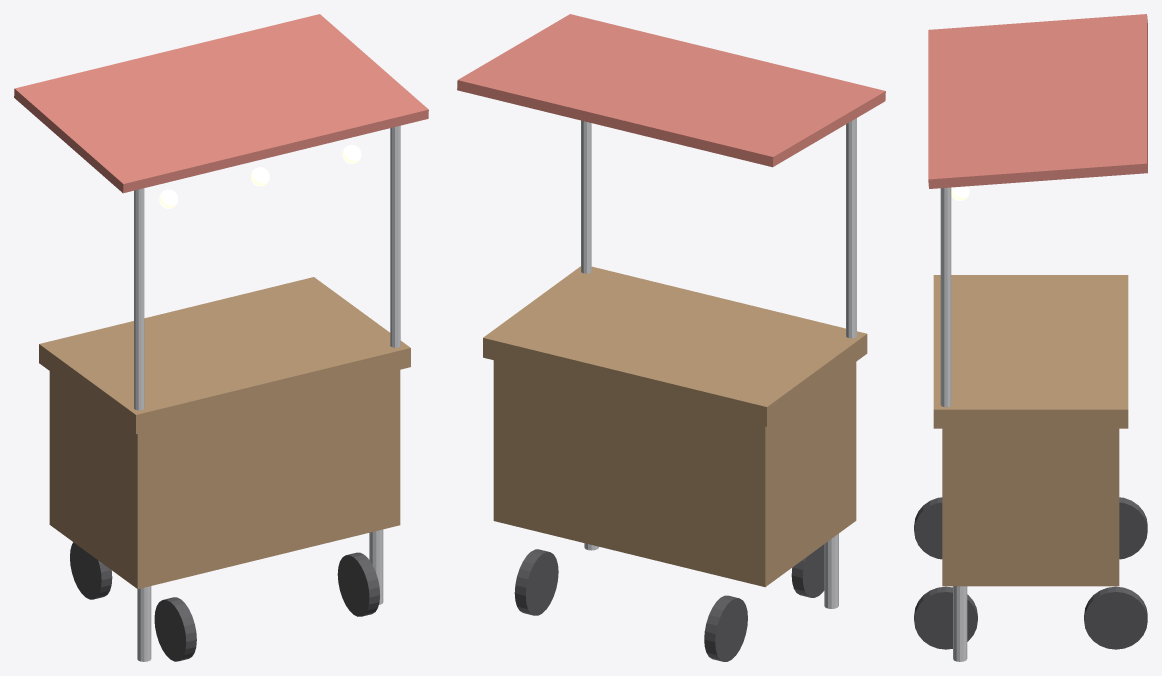
File: street_food_cart.glb
3 views of the same model, side by side, from view 1: azimuth 30°, elevation 25°; view 2: azimuth 150°, elevation 25°; view 3: azimuth 270°, elevation 25° (orthographic). The views are drawn at different scales.
Visible parts, largest first — view 1: Cart_Body, Cart_Roof, Cart_Counter, Cart_Pole_-0.42, Cart_Pole_0.42, Cart_Wheel_-0.30_-0.24, Cart_Wheel_0.30_-0.24, Cart_Wheel_-0.30_0.24, Cart_Leg_-0.38, Cart_Leg_0.38; view 2: Cart_Body, Cart_Counter, Cart_Roof, Cart_Pole_-0.42, Cart_Wheel_0.30_0.24, Cart_Wheel_-0.30_0.24, Cart_Pole_0.42, Cart_Wheel_-0.30_-0.24, Cart_Leg_-0.38; view 3: Cart_Roof, Cart_Counter, Cart_Body, Cart_Wheel_0.30_0.24, Cart_Pole_0.42, Cart_Wheel_0.30_-0.24, Cart_Wheel_-0.30_-0.24, Cart_Wheel_-0.30_0.24, Cart_Leg_0.38.
Boxes of the visible parts, x1,y1,x2,y2 form: Cart_Body: (49,370,400,588); Cart_Roof: (14,14,428,193); Cart_Counter: (39,277,410,433); Cart_Pole_-0.42: (134,188,144,410); Cart_Pole_0.42: (390,125,400,347); Cart_Wheel_-0.30_-0.24: (154,597,196,661); Cart_Wheel_0.30_-0.24: (337,552,379,616); Cart_Wheel_-0.30_0.24: (70,542,112,599); Cart_Leg_-0.38: (137,586,151,661); Cart_Leg_0.38: (369,529,383,604); Cart_Body: (493,360,856,587); Cart_Counter: (483,266,867,426); Cart_Roof: (457,14,885,167); Cart_Pole_-0.42: (846,118,856,338); Cart_Wheel_0.30_0.24: (514,549,558,615); Cart_Wheel_-0.30_0.24: (704,595,747,661); Cart_Pole_0.42: (581,120,591,273); Cart_Wheel_-0.30_-0.24: (791,544,824,597); Cart_Leg_-0.38: (824,533,838,608); Cart_Roof: (928,14,1147,188); Cart_Counter: (933,275,1128,428); Cart_Body: (942,428,1119,586); Cart_Wheel_0.30_0.24: (1084,586,1147,649); Cart_Pole_0.42: (940,187,951,407); Cart_Wheel_0.30_-0.24: (914,586,977,649); Cart_Wheel_-0.30_-0.24: (914,497,942,559); Cart_Wheel_-0.30_0.24: (1119,497,1147,559); Cart_Leg_0.38: (953,586,967,661).
Size of the model in its own units: 1 by 1.6 by 0.6602.
